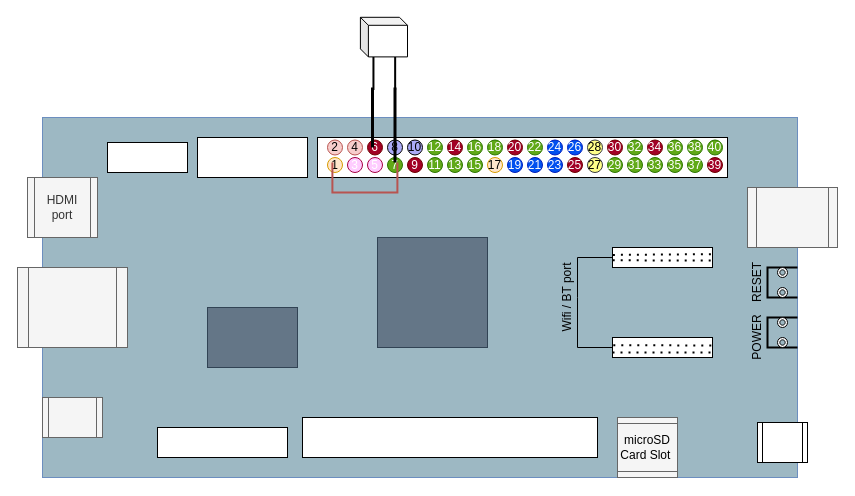
Some shapes in this 855 by 496 pixel diagram are drawn without their labels. Each missing label, with the centre of its shape:
10kΩ pull-up resistor: point (364, 177)
2x USB port: point (792, 217)
button: point (383, 36)
Camera Port Connector: point (252, 157)
CPU: point (432, 292)
DSI Connector: point (222, 442)
Euler "e" Bus: point (450, 437)
Gigabit Ethernet: point (72, 307)
Head Phone Jack: point (782, 442)
MEMORY: point (252, 337)
Power Jack: point (72, 417)
Touch Panel Connector: point (147, 157)
